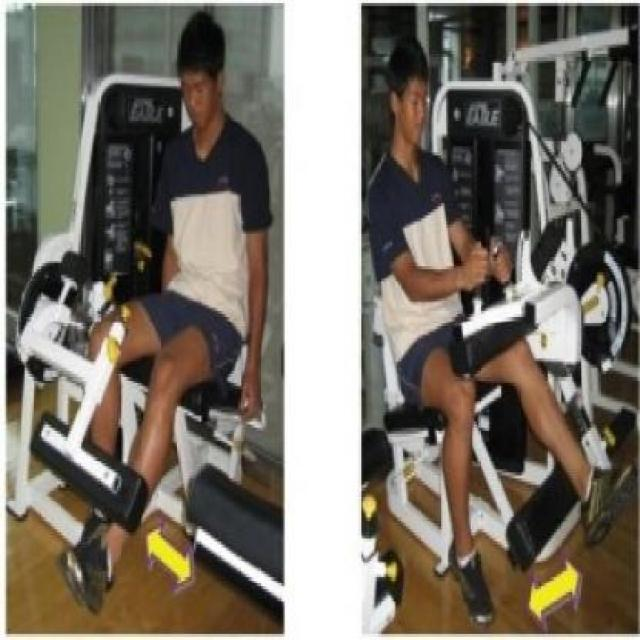leg extension: (363, 8, 626, 632), (10, 0, 278, 609)
